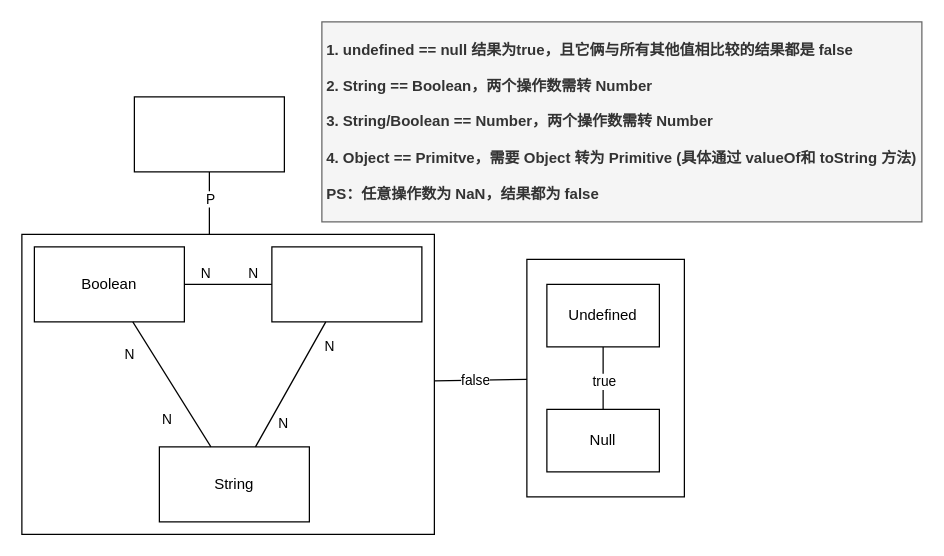
This 944x556 diagram has some shape labels left out. Each missing label, with the centre of its shape:
"Number" goes at point (346, 284).
"Object" goes at point (208, 134).
